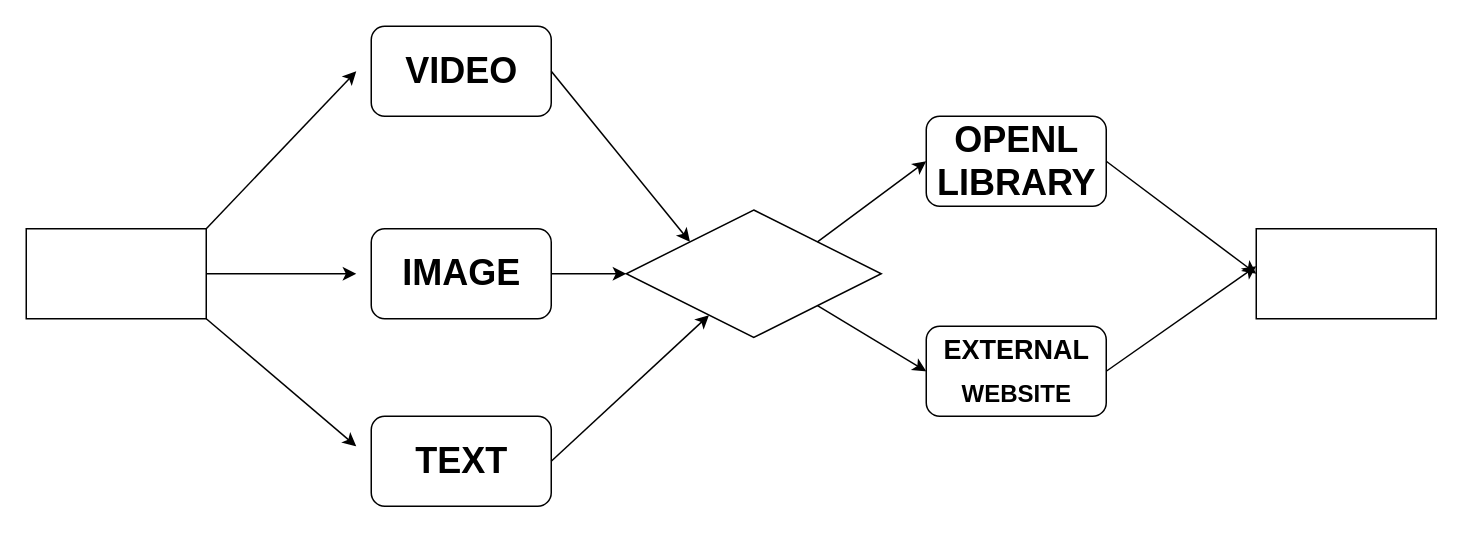
This 1469x533 diagram has some shape labels left out. Here are the shapes that lost their labels. From the top down, the centre of each, then its label:
[115,273]: INPUT
[753,273]: GET ISBN
[1345,273]: GET BOOK DETAILS
